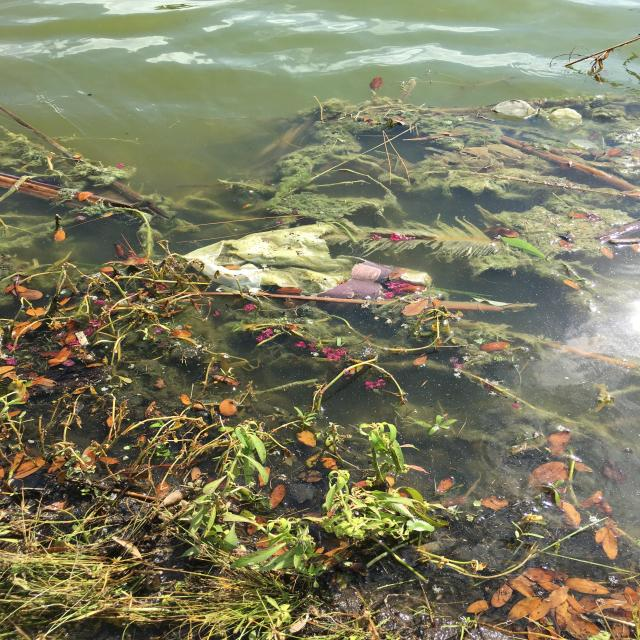litter: (181, 224, 430, 300), (493, 99, 536, 118), (549, 108, 582, 130), (569, 137, 598, 151), (76, 331, 89, 346)
